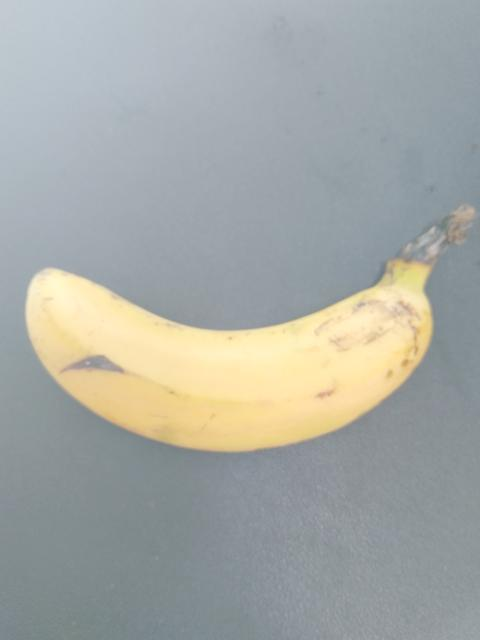ripe: (35, 214, 468, 516)
